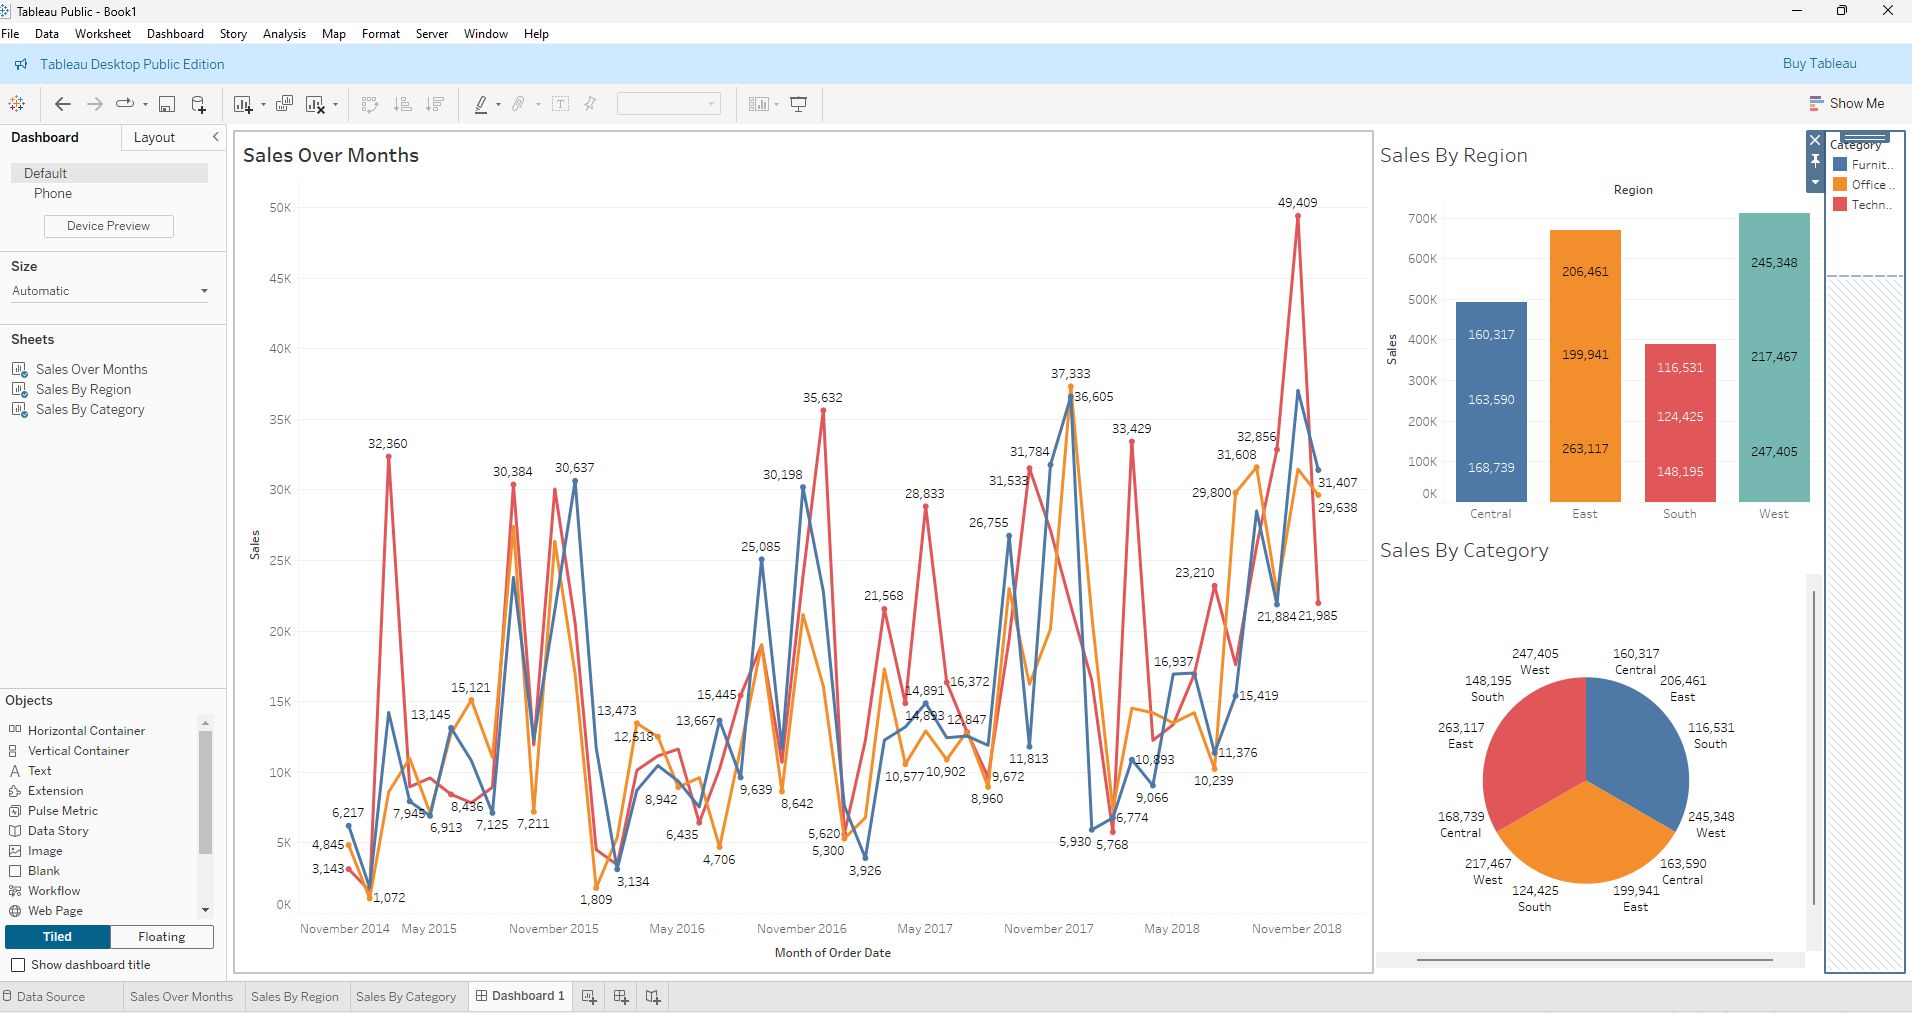

What the dashboard file says about the page in this screenshot:
{"tool":"tableau","page":{"name":"Dashboard 1","canvas":[1000,1000],"units":"permille","ordinal":0},"visuals":[{"type":"worksheet","title":"Sales Over Months","mark":"Line","rows":["Sales"],"cols":["Order Date"],"box":[4.7,9.3,679.4,981.3]},{"type":"worksheet","title":"Sales By Region","mark":"Automatic","rows":["Sales"],"cols":["Region"],"box":[684,9.3,265.6,461.4]},{"type":"legend","title":"Sales By Category","param":"[federated.0e1e3ac1b2b4jp1e7sojs1eaopjp].[none:Category:nk]","box":[949.7,9.3,45.6,167.1]},{"type":"worksheet","title":"Sales By Category","mark":"Pie","box":[684,470.8,265.6,519.9]}]}

Visuals, with their boxes on the dashboard's canvas, which has no fixed pixel size, in thousandths of its width and height (x1, y1, x2, y2). These are canvas units, not pixel positions in the 1912x1013 screenshot, which may show the page scaled, cropped or inside an application window:
"Sales Over Months" worksheet (Line marks): {"x1": 5, "y1": 9, "x2": 684, "y2": 991}
"Sales By Region" worksheet: {"x1": 684, "y1": 9, "x2": 950, "y2": 471}
"Sales By Category" legend: {"x1": 950, "y1": 9, "x2": 995, "y2": 176}
"Sales By Category" worksheet (Pie marks): {"x1": 684, "y1": 471, "x2": 950, "y2": 991}
